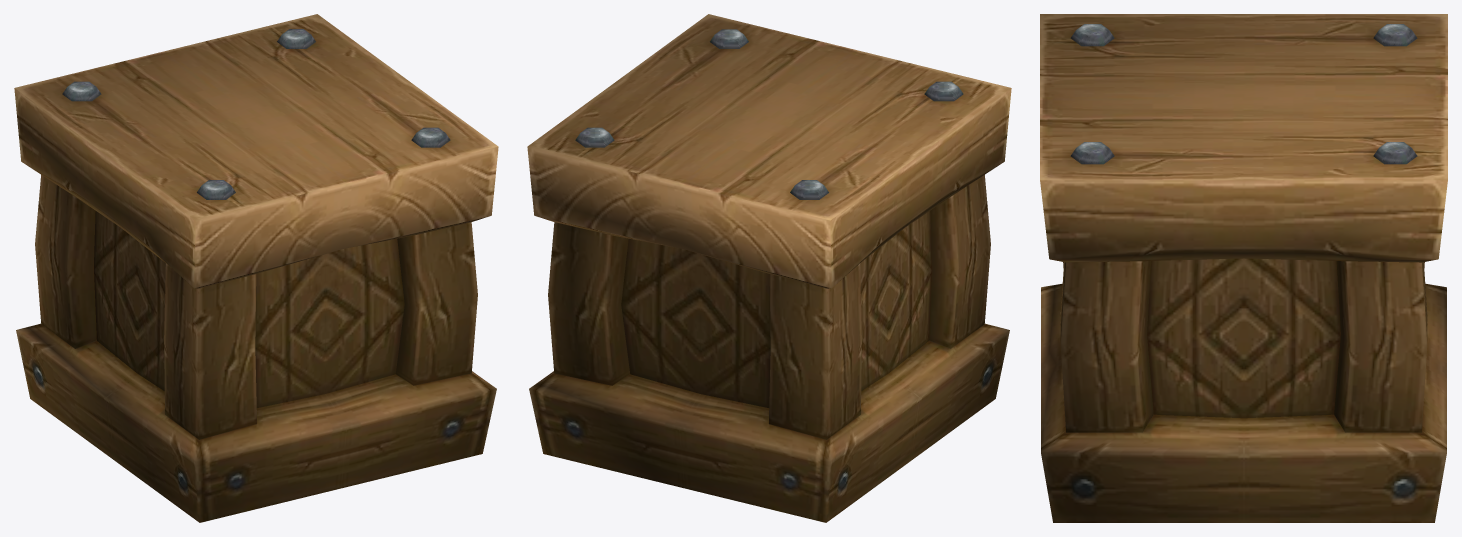
3 views of the same model, side by side, from view 1: azimuth 30°, elevation 25°; view 2: azimuth 150°, elevation 25°; view 3: azimuth 270°, elevation 25° (orthographic). The views are drawn at different scales.
Size of the model in its own units: 1.04 by 1.03 by 1.07.
1 material, 1 textured.
